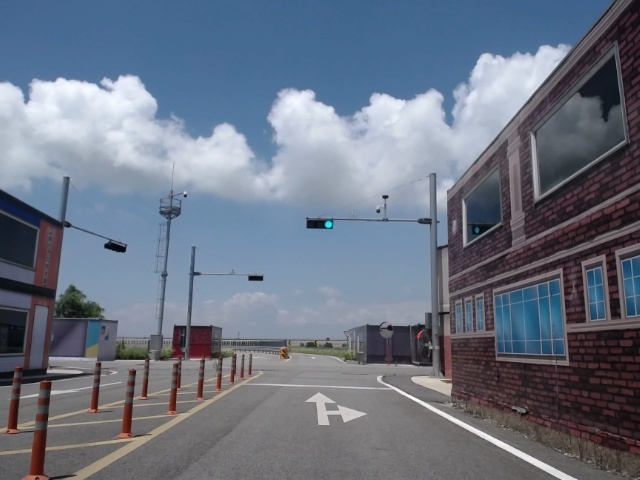green_3: (307, 220, 333, 228)
